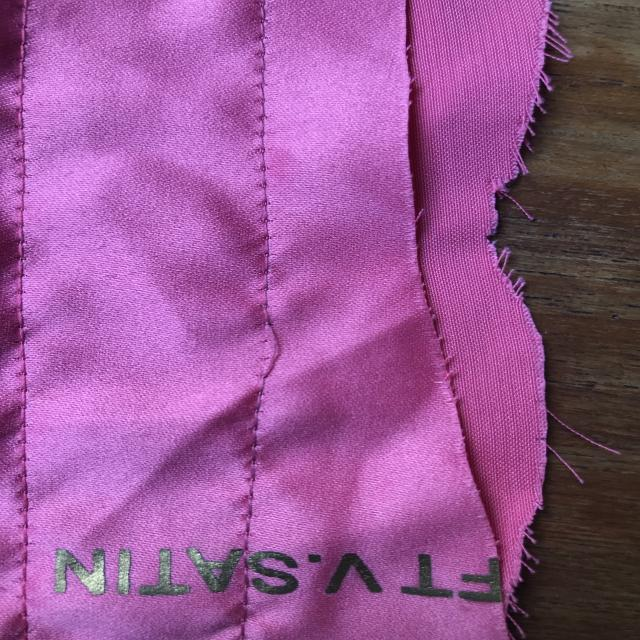skip: (244, 304, 291, 394)
